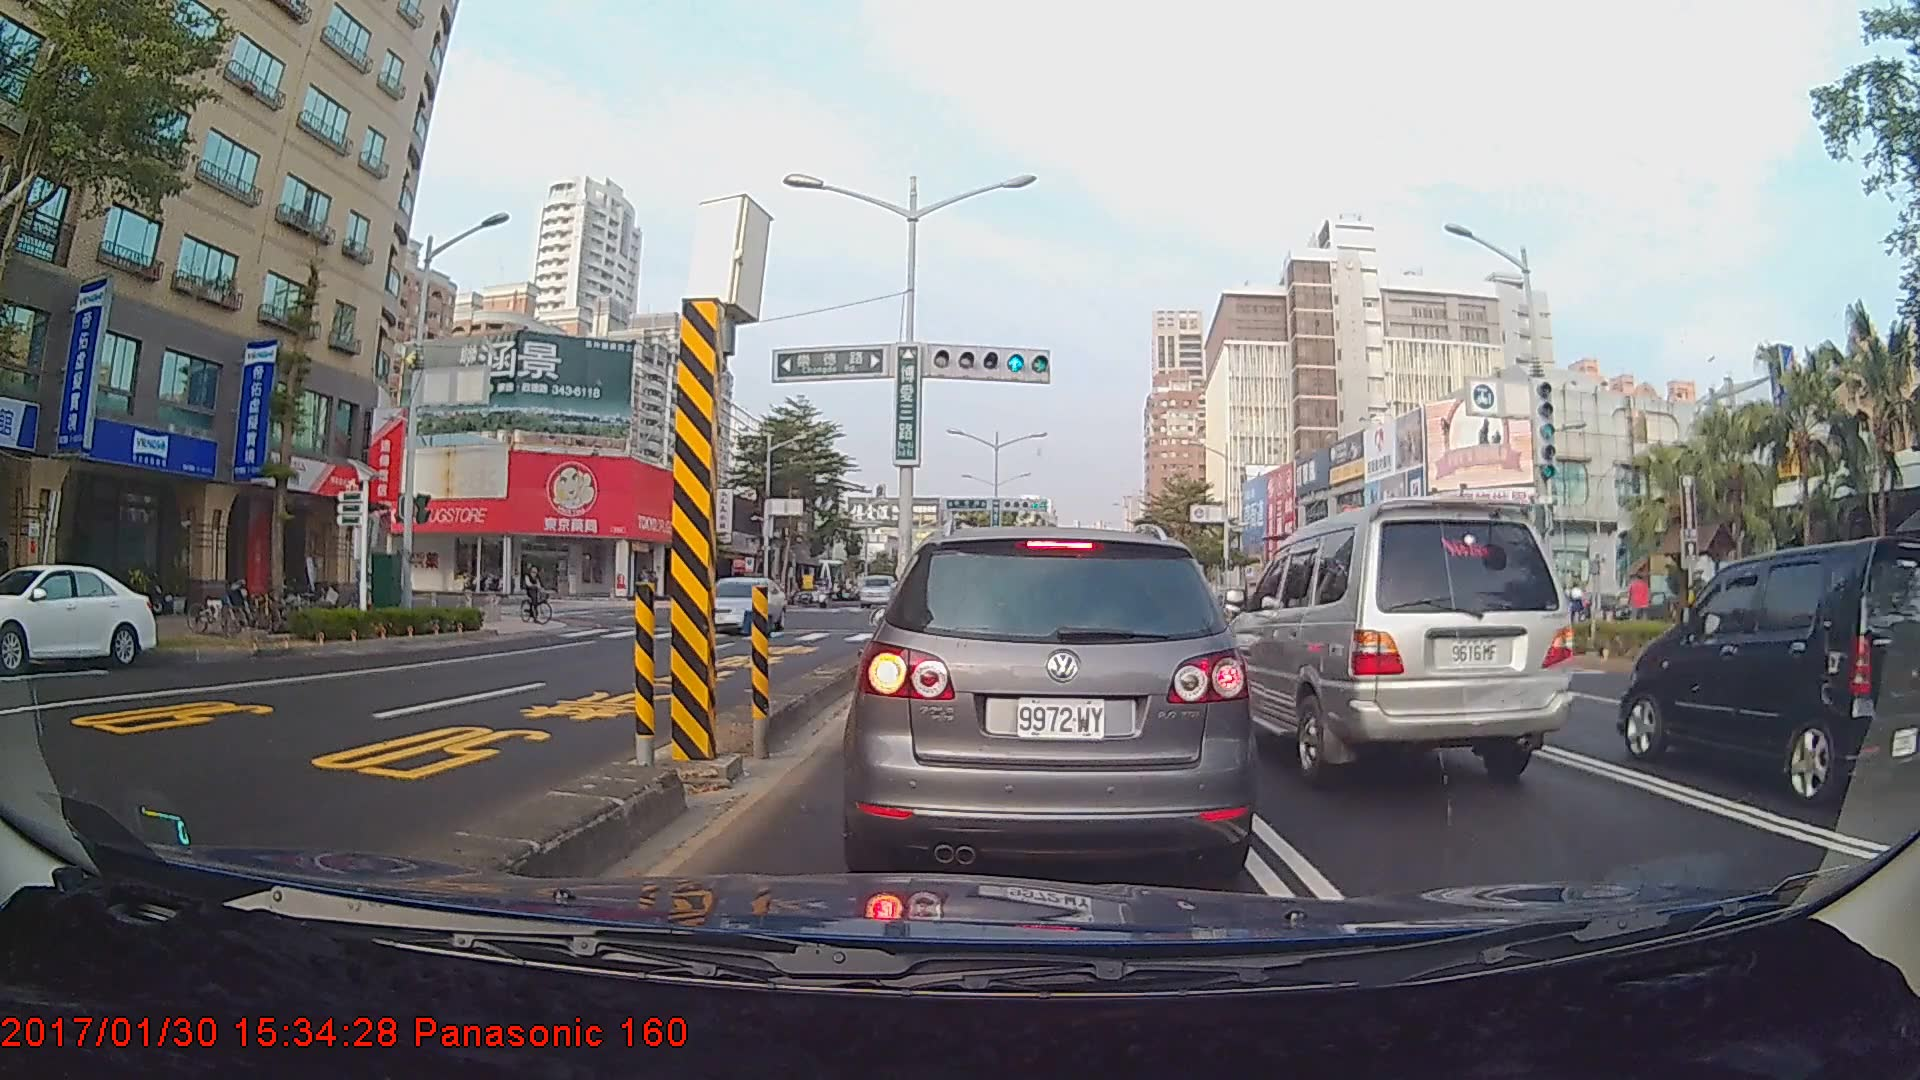rider: (518, 559, 561, 629), (1622, 567, 1663, 633), (1571, 582, 1592, 621)
vehicle: (853, 521, 1248, 874), (1210, 497, 1577, 785), (1618, 535, 1920, 806), (0, 561, 157, 671), (693, 574, 785, 636), (857, 572, 899, 607)
